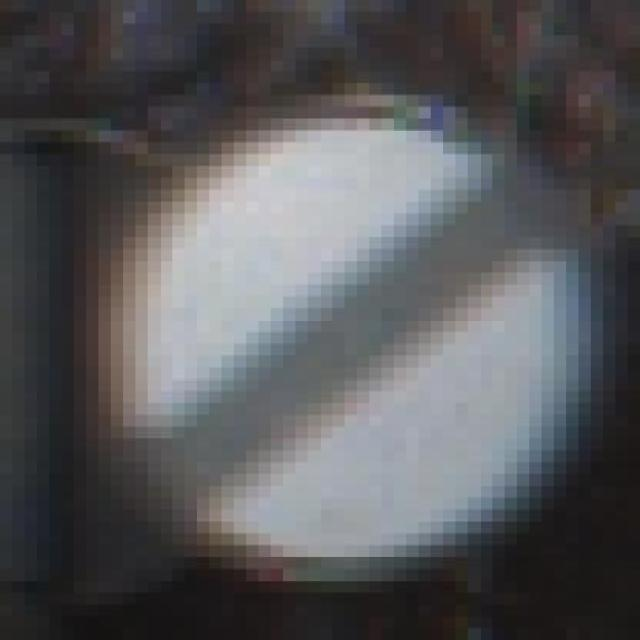End of all speed and passing limits: (62, 107, 616, 593)
